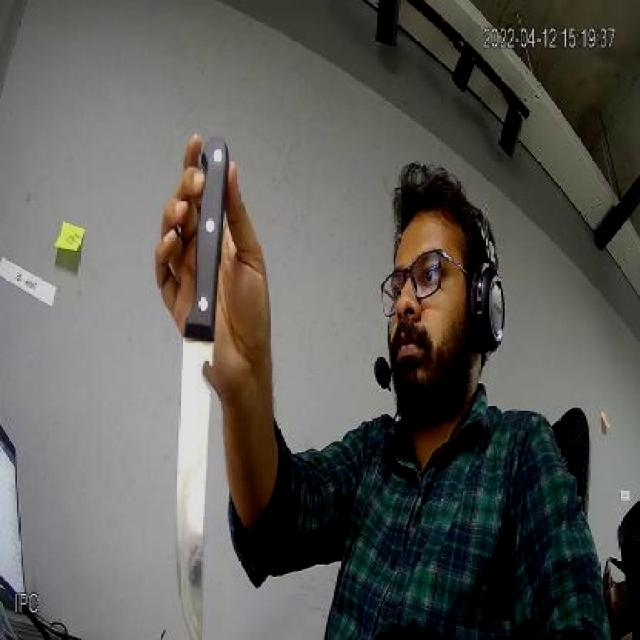knife: (177, 269, 225, 640)
